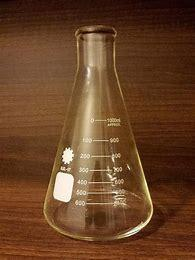Titrarion: (36, 28, 154, 242)
